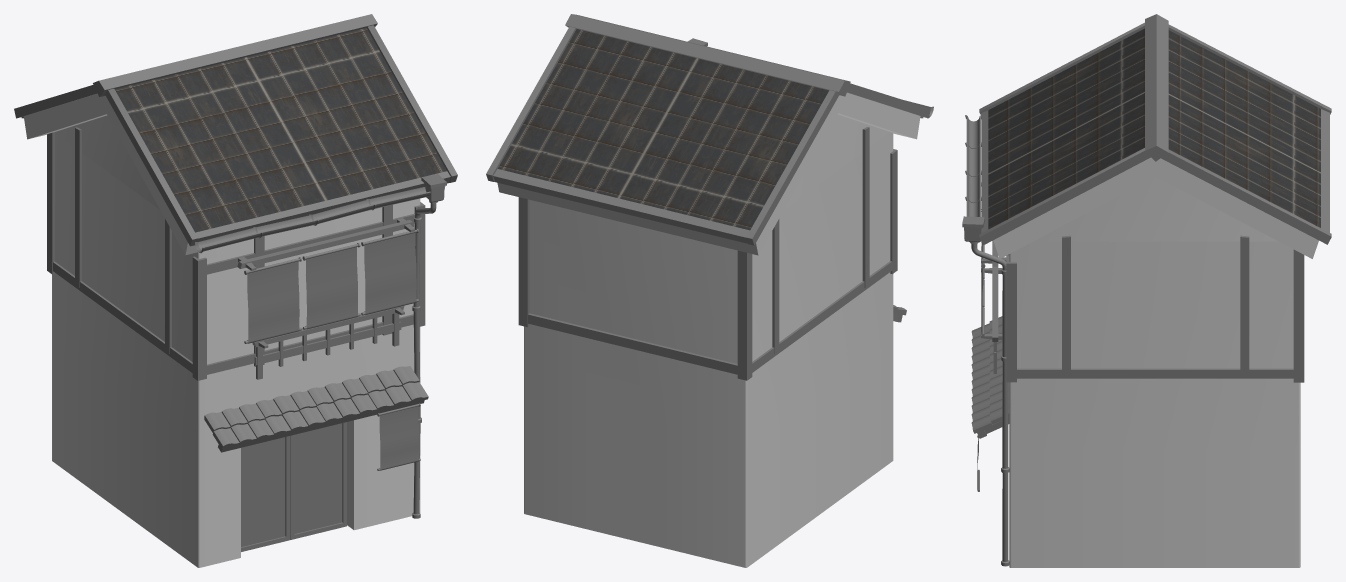
The model's file is SM_house_japan_01.fbx.
3 renders of one model, left to right at view 1: azimuth 30°, elevation 25°; view 2: azimuth 150°, elevation 25°; view 3: azimuth 270°, elevation 25°, orthographic.
Parts seen in each view (by area): view 1: Box450; view 2: Box450; view 3: Box450.
Boxes of the visible parts, x1,y1,x2,y2 form: Box450: (14, 14, 457, 567); Box450: (486, 14, 933, 567); Box450: (962, 14, 1331, 567).
Size of the model in its own units: 243 by 374 by 288.
